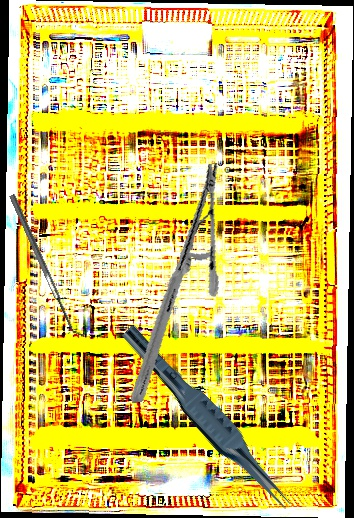Needle Holder: (90, 162, 260, 404)
Spatula Surgical: (9, 191, 85, 342)
Tissue Forceps: (111, 323, 303, 515)
